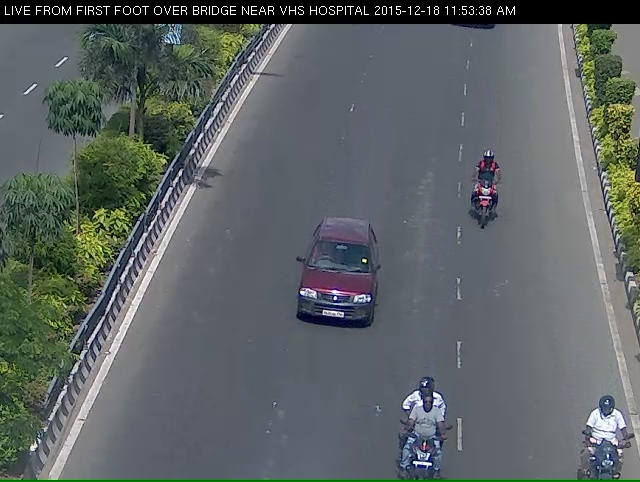Car: (285, 231, 378, 360)
Person: (460, 151, 510, 256), (388, 407, 451, 479), (575, 414, 635, 479)
